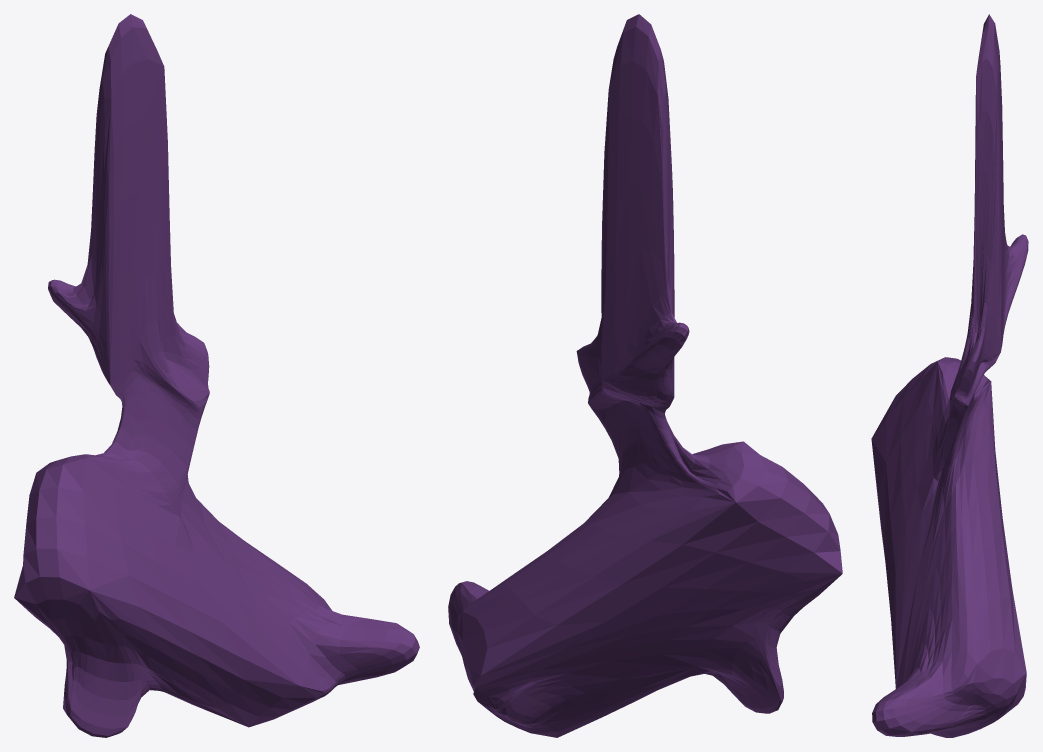
3 views of the same model, side by side, from view 1: azimuth 30°, elevation 25°; view 2: azimuth 150°, elevation 25°; view 3: azimuth 270°, elevation 25° (orthographic). The views are drawn at different scales.
Parts seen in each view (by area): view 1: 739_Cube.2967; view 2: 739_Cube.2967; view 3: 739_Cube.2967.
Boxes of the visible parts, left/top/right/bottom form: 739_Cube.2967: left=14, top=14, right=419, bottom=737; 739_Cube.2967: left=448, top=14, right=842, bottom=737; 739_Cube.2967: left=871, top=14, right=1028, bottom=737.
Bounding box in the file's own units: 12.54 × 22.45 × 4.73.
